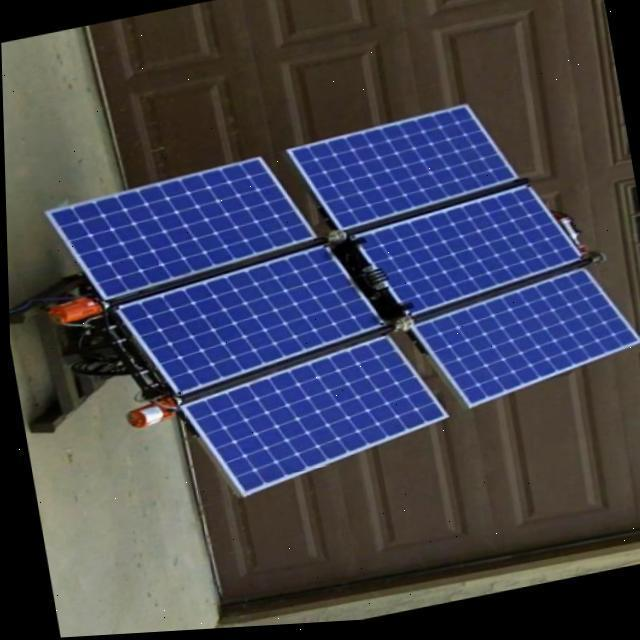Normal Solar Panel: (172, 332, 448, 508), (109, 240, 385, 406), (42, 153, 316, 310), (409, 268, 640, 421), (354, 184, 584, 328), (286, 104, 519, 242)
